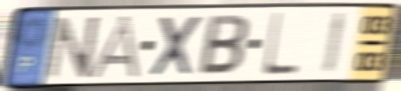A: (85, 13, 145, 80)
B: (195, 13, 251, 78)
I: (320, 9, 349, 77)
L: (260, 10, 300, 79)
N: (45, 14, 103, 82)
X: (147, 14, 205, 79)
